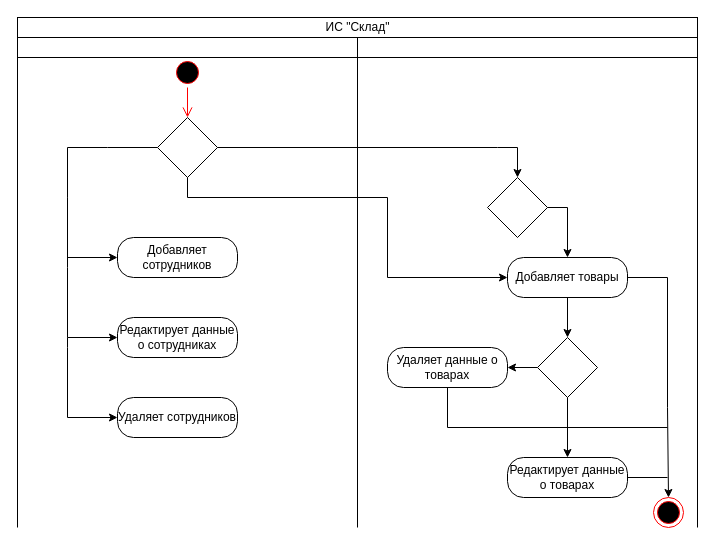
This 716x546 diagram has some shape labels left out. The shapes that lost their labels are listed below. From the top down, each one's centre as x and y in pixels, then its label:
At point 187,47: "Администратор".
At point 527,47: "Сотрудники".
At point 567,367: "Ошибка".
